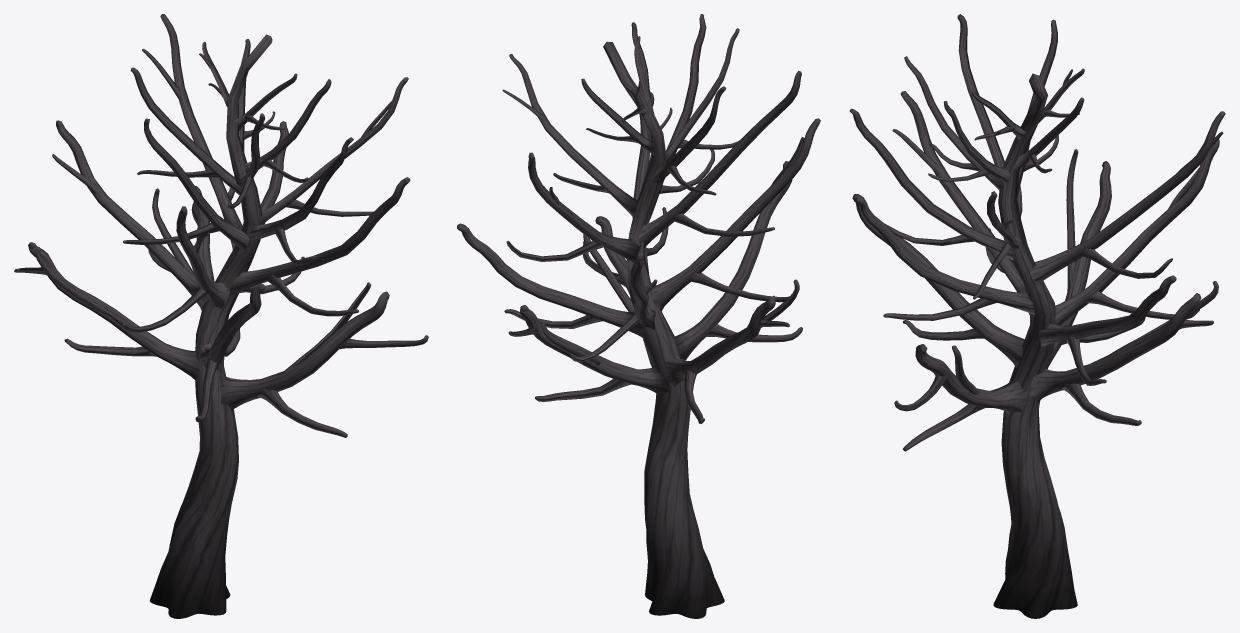
Rendered from deadtree_1.glb.
3 views of the same model, side by side, from view 1: azimuth 30°, elevation 25°; view 2: azimuth 150°, elevation 25°; view 3: azimuth 270°, elevation 25° (orthographic). The views are drawn at different scales.
Parts seen in each view (by area): view 1: DeadTree_1; view 2: DeadTree_1; view 3: DeadTree_1.
Part boxes in pixels (x1=…): DeadTree_1: x1=14, y1=14, x2=428, y2=618; DeadTree_1: x1=457, y1=14, x2=820, y2=618; DeadTree_1: x1=849, y1=14, x2=1225, y2=618.
Bounding box in the file's own units: 6.15 × 9.5 × 5.75.
Materials: 1 (1 with a texture image).
